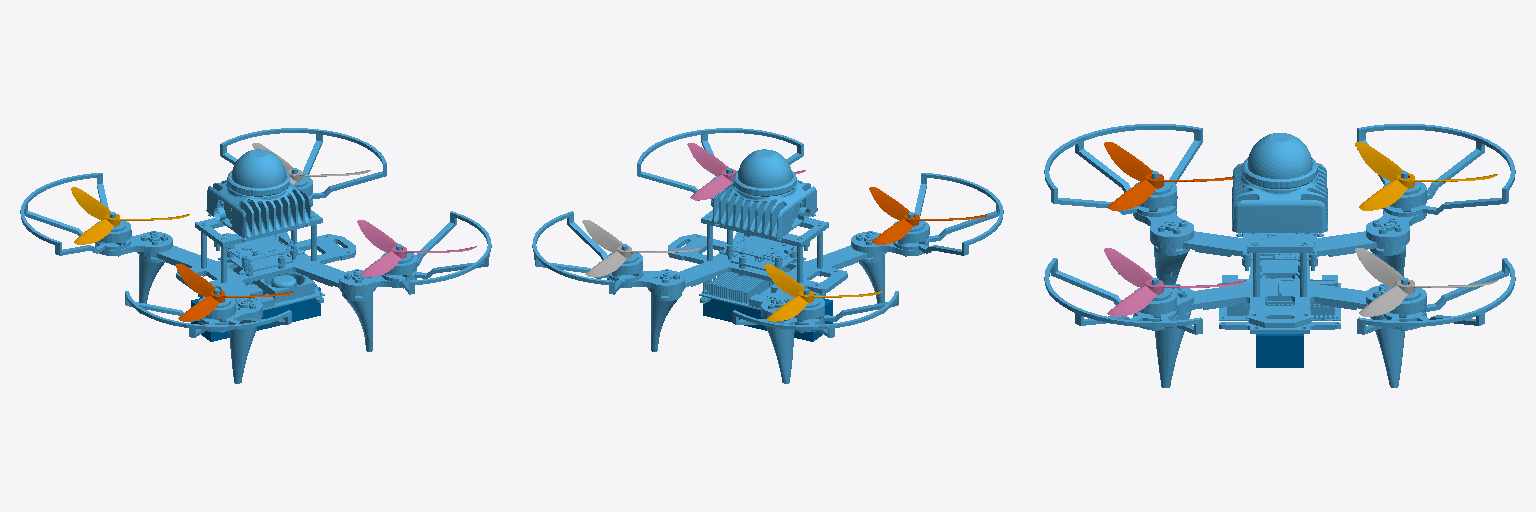
robot.urdf — module_quadrotor:
<?xml version="1.0" ?>
<robot name="module_quadrotor">
  <baselink name="fc"/>
  <thrust_link name="thrust"/>
  <m_f_rate value="-0.011"/>
  <link name="root">
    <inertial>
      <origin rpy="0 0 0" xyz="0 0 0"/>
      <mass value="0.00001"/>
      <inertia ixx="0.000001" ixy="0.0" ixz="0.0" iyy="0.000001" iyz="0.0" izz="0.000002"/>
    </inertial>
  </link>
  <joint name="root_joint" type="fixed">
    <parent link="root"/>
    <child link="main_body"/>
    <origin rpy="0 0 0" xyz="0 0 0"/>
    <axis xyz="0 0 1"/>
  </joint>
  <link name="main_body">
    <inertial>
      <mass value="0.832"/>
      <origin rpy="0 0 0" xyz="0.002 0 0.026000000000000002"/>
      <inertia ixx="0.0030" ixy="0" ixz="0" iyy="0.0030" iyz="0" izz="0.0045"/>
    </inertial>
    <visual>
      <origin rpy="0 0 0" xyz="0 0 0"/>
      <geometry>
        <mesh filename="main_body_livox.stl"/>
      </geometry>
    </visual>
    <collision name="main_body">
      <origin rpy="0 0 0" xyz="0 0 0"/>
      <geometry>
        <mesh filename="main_body_livox.stl"/>
      </geometry>
    </collision>
  </link>
  <joint name="main_body2fc" type="fixed">
    <parent link="main_body"/>
    <child link="fc"/>
    <origin rpy="0 0 0" xyz="0 0 0"/>
  </joint>
  <link name="fc">
    <inertial>
      <mass value="00"/>
      <origin rpy="0 0 0" xyz="0 0 0"/>
      <inertia ixx="0.0" ixy="0.0" ixz="0.0" iyy="0.0" iyz="0.0" izz="0.0"/>
    </inertial>
  </link>
  <joint name="main_body2lidar_imu" type="fixed">
    <parent link="main_body"/>
    <child link="lidar_imu"/>
    <origin rpy="0 0 0" xyz="0.011 0.02329 0.04538"/>
  </joint>
  <link name="lidar_imu">
    <inertial>
      <mass value="00"/>
      <origin rpy="0 0 0" xyz="0 0 0"/>
      <inertia ixx="0.0" ixy="0.0" ixz="0.0" iyy="0.0" iyz="0.0" izz="0.0"/>
    </inertial>
  </link>
  <joint name="main_body2battery" type="fixed">
    <parent link="main_body"/>
    <child link="battery"/>
    <origin rpy="1.5707963267948966 0 0" xyz="0.0 0 -0.035"/>
  </joint>
  <link name="battery">
    <inertial>
      <mass value="0.188"/>
      <origin rpy="0 0 0" xyz="0 0 0"/>
      <inertia ixx="0.0002" ixy="0.0" ixz="0.0" iyy="0.0002" iyz="0.0" izz="0.0002"/>
    </inertial>
    <visual>
      <origin rpy="0 0 0" xyz="0 0 0"/>
      <geometry>
        <mesh filename="turnigy_3S_2200mAh.stl"/>
      </geometry>
    </visual>
    <collision name="battery">
      <origin rpy="0 0 0" xyz="0 0 0"/>
      <geometry>
        <mesh filename="turnigy_3S_2200mAh.stl"/>
      </geometry>
    </collision>
  </link>
  <joint name="rotor1" type="continuous">
    <limit effort="100.0" lower="0.0" upper="8.0" velocity="0.5"/>
    <parent link="main_body"/>
    <child link="thrust1"/>
    <origin rpy="0 0 0" xyz="-0.085 -0.085 0.026"/>
    <axis xyz="0 0 -1"/>
  </joint>
  <link name="thrust1">
    <inertial>
      <origin rpy="0 0 0" xyz="0 0 0"/>
      <mass value="0.0091"/>
      <inertia ixx="0.00000807" ixy="0.0" ixz="0.0" iyy="0.00000807" iyz="0.0" izz="0.00001612"/>
    </inertial>
    <visual>
      <origin rpy="0 0 0" xyz="0 0 0"/>
      <geometry>
        <mesh filename="prop_5inch.stl"/>
      </geometry>
    </visual>
    <collision name="thrust1">
      <origin rpy="0 0 0" xyz="0 0 0"/>
      <geometry>
        <mesh filename="prop_5inch.stl"/>
      </geometry>
    </collision>
  </link>
  <gazebo reference="main_body">
    <dampingFactor>0.00</dampingFactor>
  </gazebo>
  <joint name="rotor2" type="continuous">
    <limit effort="100.0" lower="0.0" upper="8.0" velocity="0.5"/>
    <parent link="main_body"/>
    <child link="thrust2"/>
    <origin rpy="0 0 0" xyz="0.085 -0.085 0.026"/>
    <axis xyz="0 0 1"/>
  </joint>
  <link name="thrust2">
    <inertial>
      <origin rpy="0 0 0" xyz="0 0 0"/>
      <mass value="0.0091"/>
      <inertia ixx="0.00000807" ixy="0.0" ixz="0.0" iyy="0.00000807" iyz="0.0" izz="0.00001612"/>
    </inertial>
    <visual>
      <origin rpy="0 0 0" xyz="0 0 0"/>
      <geometry>
        <mesh filename="prop_5inch.stl"/>
      </geometry>
    </visual>
    <collision name="thrust2">
      <origin rpy="0 0 0" xyz="0 0 0"/>
      <geometry>
        <mesh filename="prop_5inch.stl"/>
      </geometry>
    </collision>
  </link>
  <gazebo reference="main_body">
    <dampingFactor>0.00</dampingFactor>
  </gazebo>
  <joint name="rotor3" type="continuous">
    <limit effort="100.0" lower="0.0" upper="8.0" velocity="0.5"/>
    <parent link="main_body"/>
    <child link="thrust3"/>
    <origin rpy="0 0 0" xyz="0.085 0.085 0.026"/>
    <axis xyz="0 0 -1"/>
  </joint>
  <link name="thrust3">
    <inertial>
      <origin rpy="0 0 0" xyz="0 0 0"/>
      <mass value="0.0091"/>
      <inertia ixx="0.00000807" ixy="0.0" ixz="0.0" iyy="0.00000807" iyz="0.0" izz="0.00001612"/>
    </inertial>
    <visual>
      <origin rpy="0 0 0" xyz="0 0 0"/>
      <geometry>
        <mesh filename="prop_5inch.stl"/>
      </geometry>
    </visual>
    <collision name="thrust3">
      <origin rpy="0 0 0" xyz="0 0 0"/>
      <geometry>
        <mesh filename="prop_5inch.stl"/>
      </geometry>
    </collision>
  </link>
  <gazebo reference="main_body">
    <dampingFactor>0.00</dampingFactor>
  </gazebo>
  <joint name="rotor4" type="continuous">
    <limit effort="100.0" lower="0.0" upper="8.0" velocity="0.5"/>
    <parent link="main_body"/>
    <child link="thrust4"/>
    <origin rpy="0 0 0" xyz="-0.085 0.085 0.026"/>
    <axis xyz="0 0 1"/>
  </joint>
  <link name="thrust4">
    <inertial>
      <origin rpy="0 0 0" xyz="0 0 0"/>
      <mass value="0.0091"/>
      <inertia ixx="0.00000807" ixy="0.0" ixz="0.0" iyy="0.00000807" iyz="0.0" izz="0.00001612"/>
    </inertial>
    <visual>
      <origin rpy="0 0 0" xyz="0 0 0"/>
      <geometry>
        <mesh filename="prop_5inch.stl"/>
      </geometry>
    </visual>
    <collision name="thrust4">
      <origin rpy="0 0 0" xyz="0 0 0"/>
      <geometry>
        <mesh filename="prop_5inch.stl"/>
      </geometry>
    </collision>
  </link>
  <gazebo reference="main_body">
    <dampingFactor>0.00</dampingFactor>
  </gazebo>
  <mujoco>
    <compiler balanceinertia="true"/>
    <option/>
  </mujoco>
</robot>

--- Render facts (derived) ---
The picture shows the robot from 3 angles, left to right: view 1: azimuth 30°, elevation 25°; view 2: azimuth 150°, elevation 25°; view 3: azimuth 270°, elevation 25°; orthographic projection.
Model module_quadrotor with 9 links and 8 joints (4 continuous, 4 fixed), rooted at root, posed every joint at zero.
Links seen in each view (by area): view 1: main_body, thrust2, thrust4, thrust1, battery; view 2: main_body, thrust1, thrust4, thrust3, thrust2, battery; view 3: main_body, thrust4, thrust3, thrust2, thrust1, battery.
Link boxes in pixels (box(x1,y1,x2,y2)): main_body: box(20, 128, 491, 383); thrust2: box(357, 220, 476, 276); thrust4: box(71, 187, 189, 244); thrust1: box(175, 264, 293, 321); battery: box(191, 284, 320, 341); main_body: box(532, 128, 1003, 383); thrust1: box(869, 187, 987, 244); thrust4: box(764, 264, 882, 321); thrust3: box(582, 220, 701, 276); thrust2: box(687, 143, 805, 200); battery: box(703, 298, 832, 341); main_body: box(1044, 124, 1515, 387); thrust4: box(1355, 142, 1497, 210); thrust3: box(1355, 248, 1497, 316); thrust2: box(1104, 248, 1246, 316); thrust1: box(1104, 142, 1232, 210); battery: box(1256, 334, 1303, 367).
Bounding box of the posed robot: 0.3201 × 0.3189 × 0.1586 m (x, y, z).
Meshes: 3 distinct files referenced, 6 mesh visuals loaded (3 binary STL).